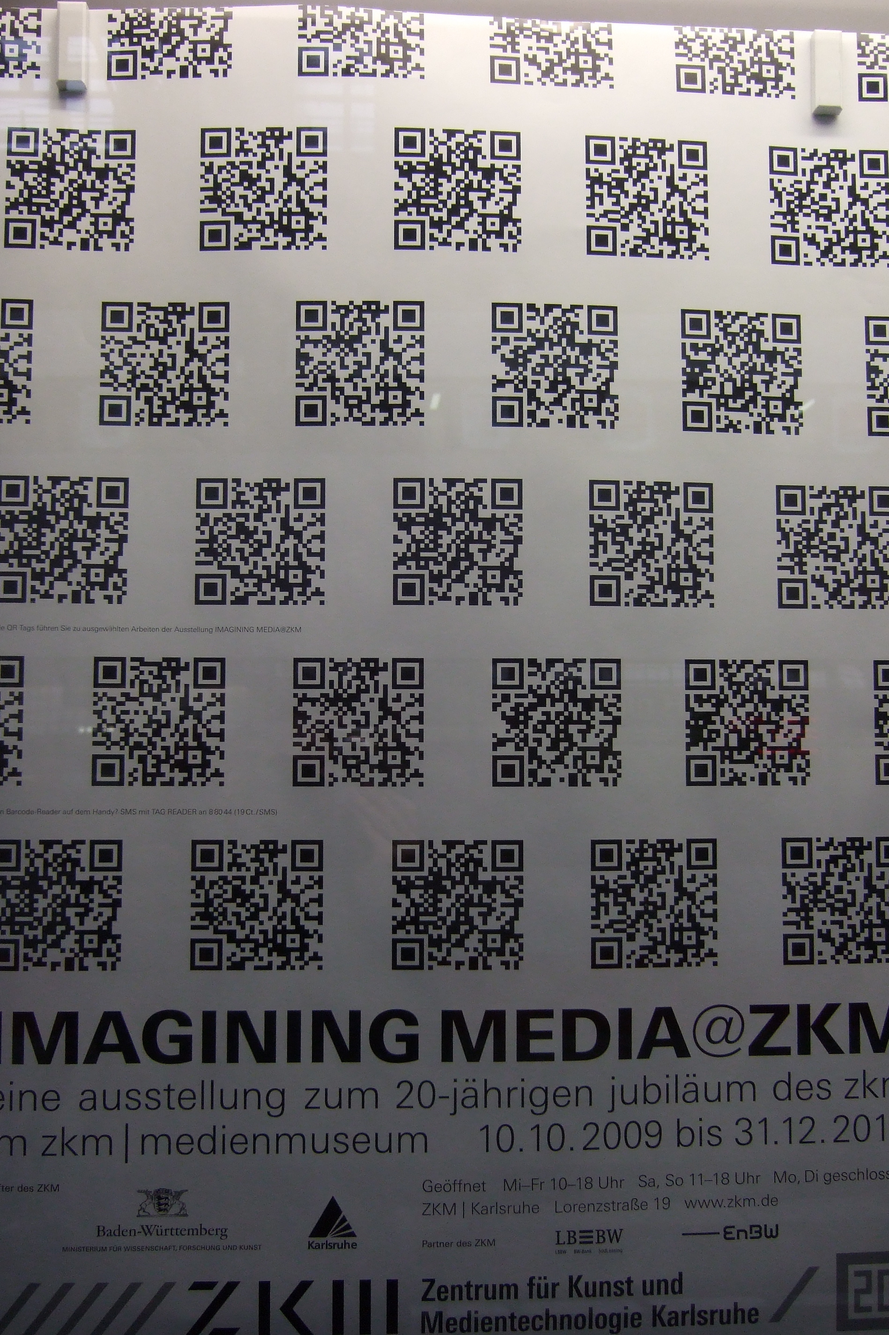QR-CODE: (91, 656, 225, 786), (190, 840, 323, 970), (392, 840, 523, 969), (292, 658, 423, 787), (0, 475, 129, 604), (194, 478, 325, 605), (492, 658, 621, 786), (393, 478, 522, 605), (591, 838, 717, 968), (99, 301, 230, 426), (491, 302, 619, 429), (295, 300, 424, 426), (4, 127, 135, 251), (0, 840, 123, 971), (589, 480, 714, 608), (685, 659, 810, 786), (394, 127, 521, 252), (200, 127, 327, 251), (585, 135, 709, 260), (681, 309, 803, 435), (769, 145, 889, 267), (776, 485, 889, 609), (781, 836, 889, 965), (298, 5, 424, 79), (107, 7, 232, 80), (489, 16, 614, 89), (674, 25, 795, 99), (0, 299, 33, 424), (0, 656, 24, 786), (864, 316, 889, 436), (0, 8, 41, 78), (856, 32, 889, 101), (873, 660, 889, 785)
